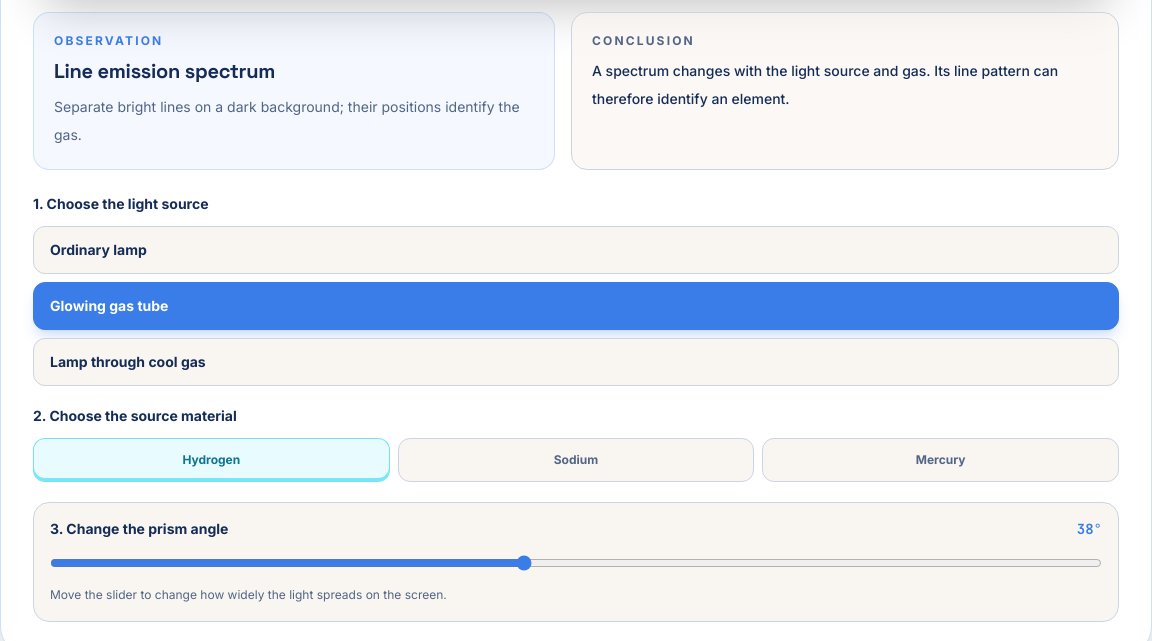
Scenario: SpectrumTypesActivity › shows a different spectral fingerprint for each material
(page scrolled)
Click the button "Sodium".
click(576, 460)  # box [398, 438, 754, 482]
(page scrolled)
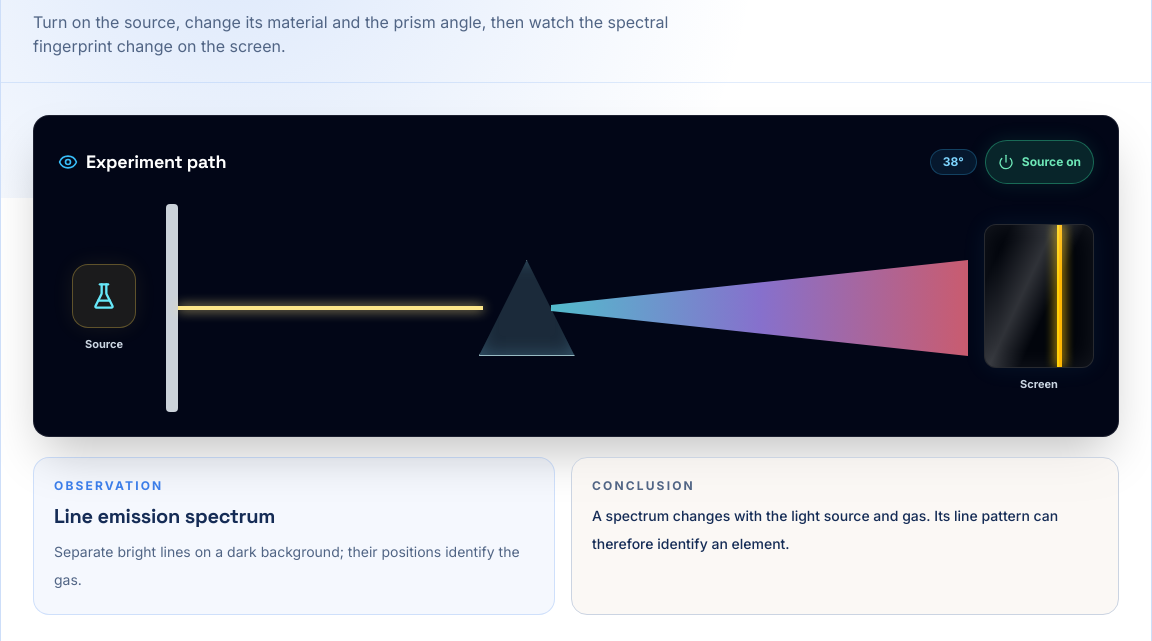
Now the number of elements with test id "spectrum-line" is 2, box [1057, 225, 1061, 367]; [1059, 225, 1062, 367]
